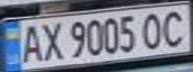0: (84, 16, 106, 56), (103, 15, 121, 55)
5: (118, 12, 142, 53)
9: (63, 17, 87, 59)
A: (15, 21, 45, 64)
C: (157, 7, 193, 47)
O: (139, 10, 169, 51)
X: (36, 19, 66, 62)
